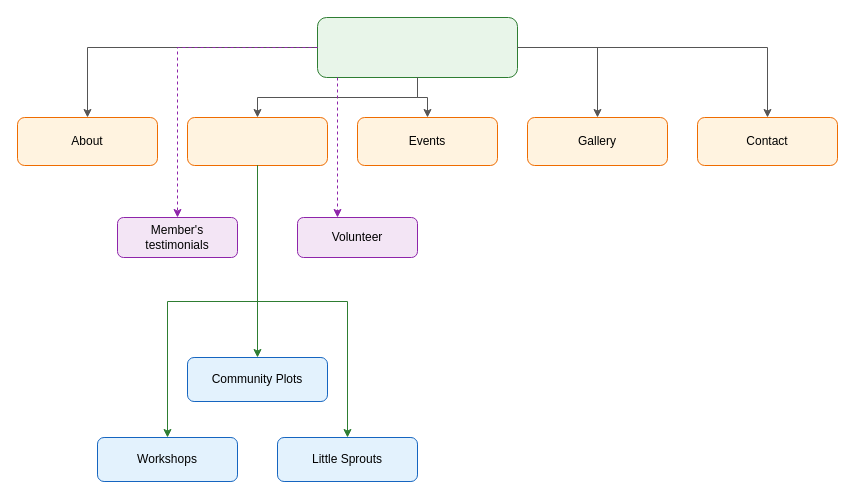
Image size: 855x499. Some labels were removed from this diagram. The shapes that lost their labels are listed below. From the top down, each one's box as (x1, y1, x2, y2) in pixels, then its label:
(316, 16, 518, 78): Home (index.html)
(186, 116, 328, 166): Programmes
